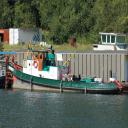tugboat: (6, 38, 126, 98)
